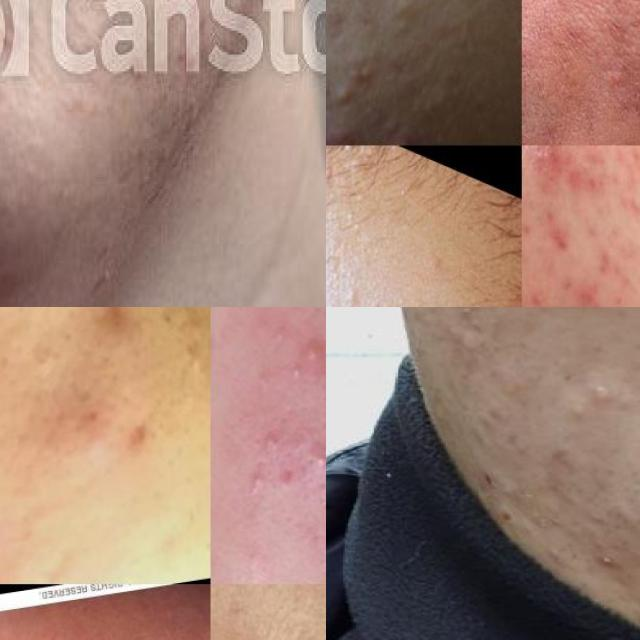acne_scars: (540, 218, 593, 273)
comedone: (556, 373, 628, 443), (326, 37, 375, 120), (25, 316, 57, 387), (264, 314, 297, 356), (329, 268, 363, 307), (277, 355, 313, 391), (304, 440, 326, 483), (256, 421, 285, 453), (186, 347, 211, 383), (239, 464, 264, 496), (357, 293, 380, 307)
papule: (562, 265, 628, 307), (295, 329, 326, 372), (314, 528, 326, 575)
pustule: (376, 128, 418, 146)
sebo-crystan-conglo: (326, 122, 350, 145)
